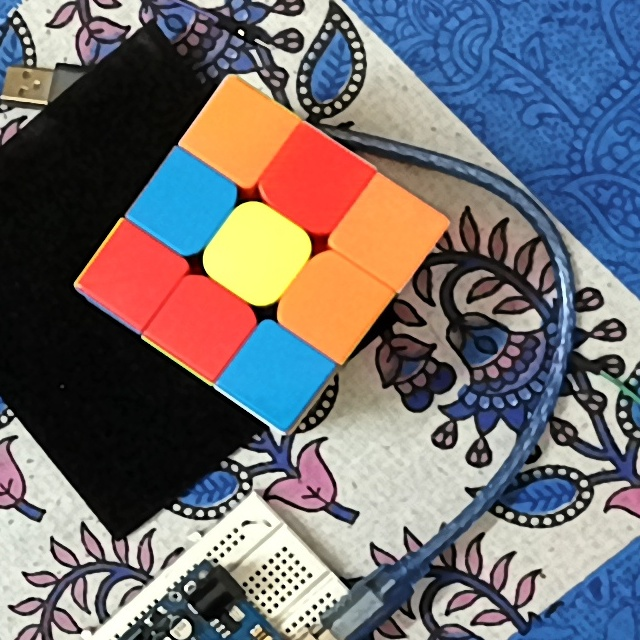tile: (282, 152, 344, 214), (244, 346, 305, 407), (303, 273, 365, 333), (358, 203, 417, 265), (207, 103, 269, 161), (153, 174, 217, 230), (226, 224, 286, 283), (171, 298, 230, 357), (105, 246, 156, 305)
